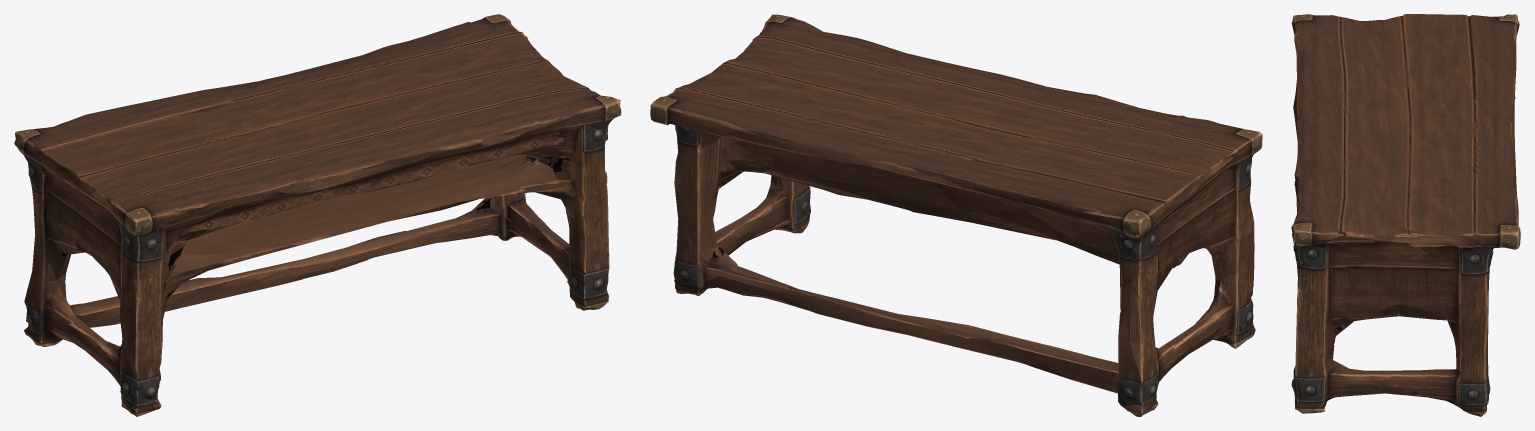
The model's file is student_desk.glb.
3 views of the same model, side by side, from view 1: azimuth 30°, elevation 25°; view 2: azimuth 150°, elevation 25°; view 3: azimuth 270°, elevation 25° (orthographic). The views are drawn at different scales.
Parts seen in each view (by area): view 1: output_unwrapped; view 2: output_unwrapped; view 3: output_unwrapped.
Part boxes in pixels (left/top/right/bottom): output_unwrapped: left=14, top=14, right=621, bottom=416; output_unwrapped: left=650, top=14, right=1262, bottom=416; output_unwrapped: left=1291, top=14, right=1520, bottom=416.
Bounding box in the file's own units: 1.9 × 0.7649 × 0.8339.
1 material, 1 textured.
